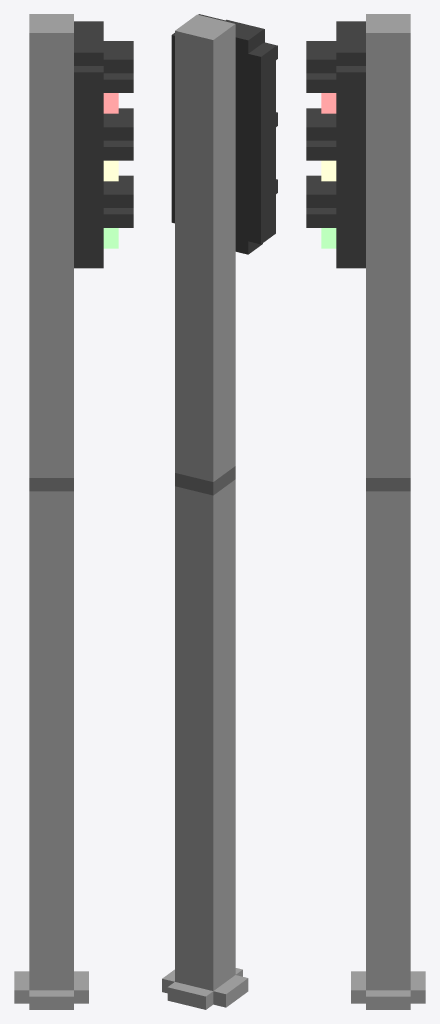
The model's file is trafficLightOne.glb.
3 renders of one model, left to right at view 1: azimuth 90°, elevation 25°; view 2: azimuth 150°, elevation 25°; view 3: azimuth 270°, elevation 25°, orthographic.
Visible parts, largest first — view 1: ObjObject; view 2: ObjObject; view 3: ObjObject.
Boxes of the visible parts, x1,y1,x2,y2 form: ObjObject: (14, 14, 133, 1009); ObjObject: (162, 14, 277, 1009); ObjObject: (306, 14, 425, 1009).
Bounding box in the file's own units: 0.7 × 7.2 × 0.8.
4 materials, 1 textured.
